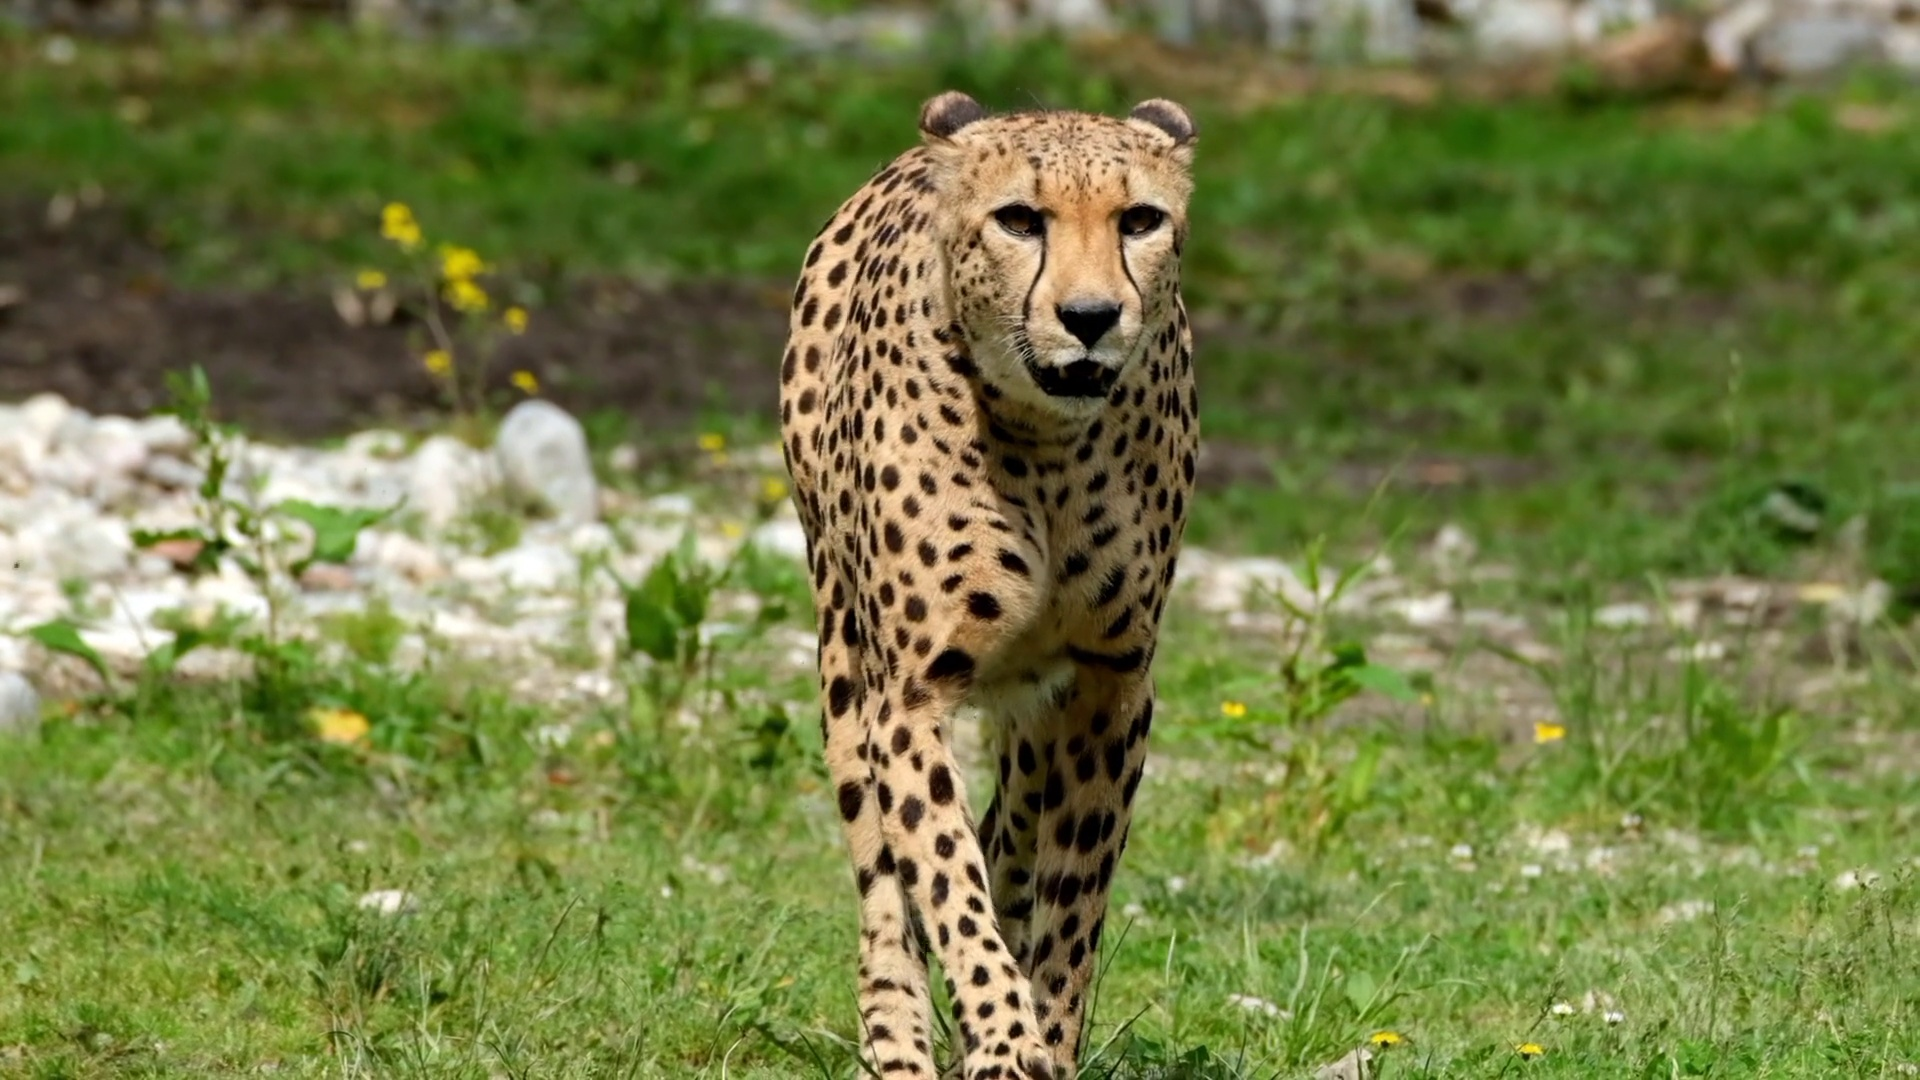Cheetah: (775, 83, 1204, 1080)
